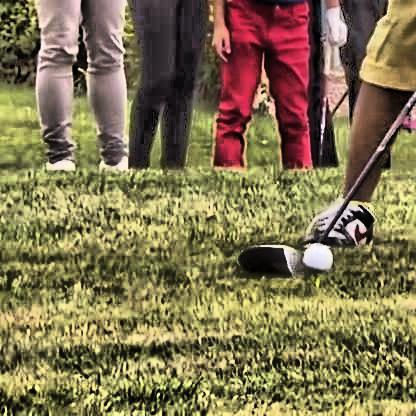golfball: (297, 237, 330, 273)
